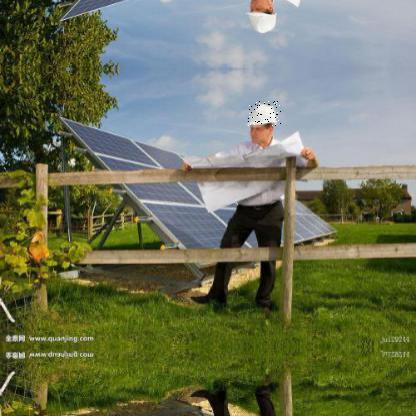safetyhelmet: (248, 102, 282, 128)
